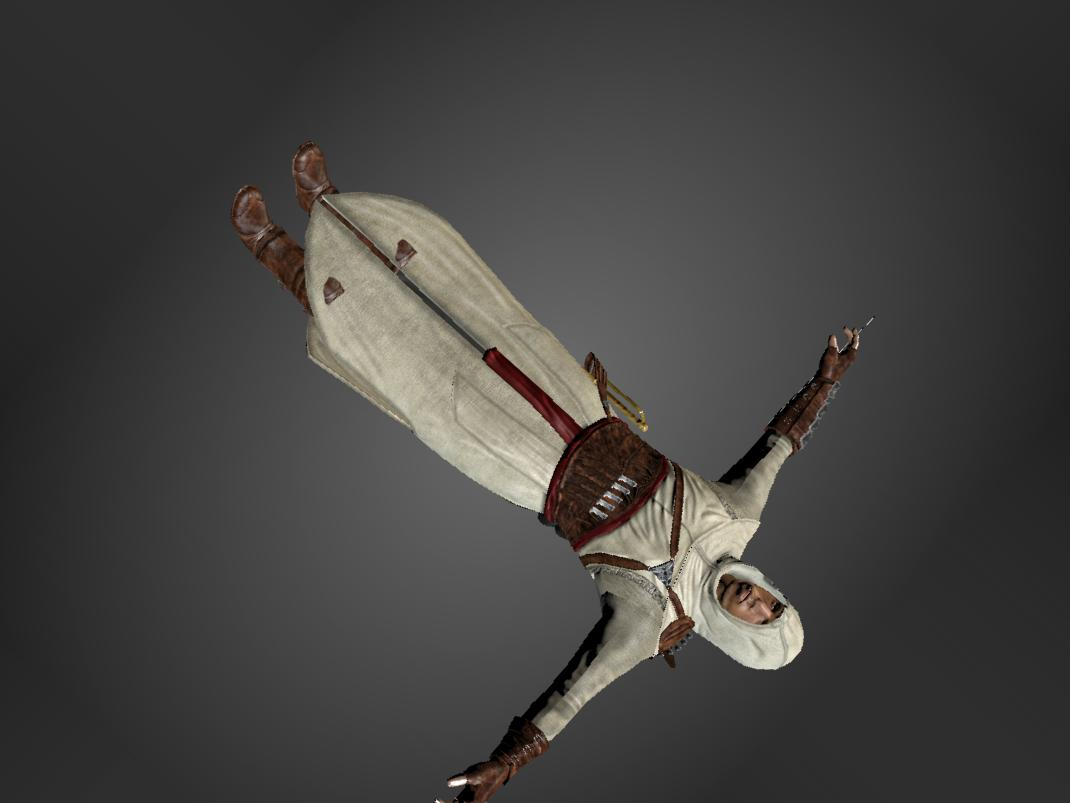clip: (382, 238, 433, 273), (311, 269, 352, 308)
